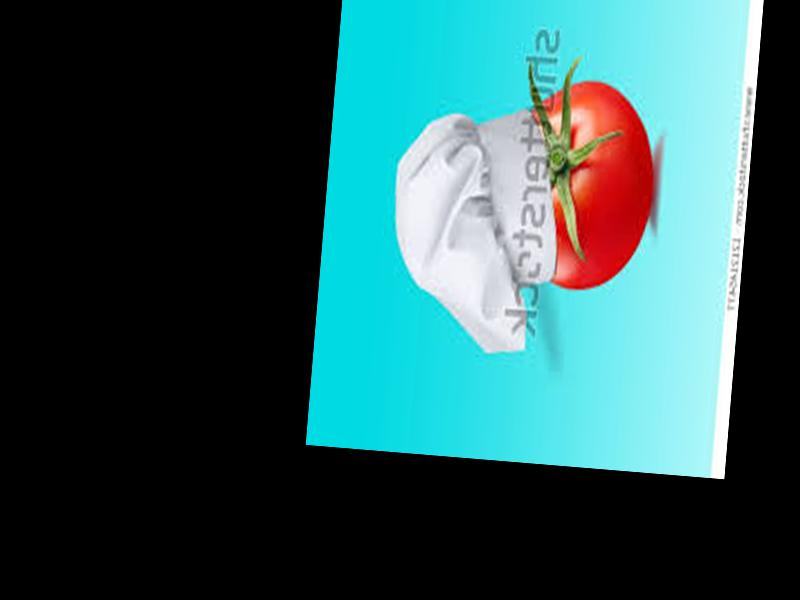Tomato: (517, 80, 658, 294)
